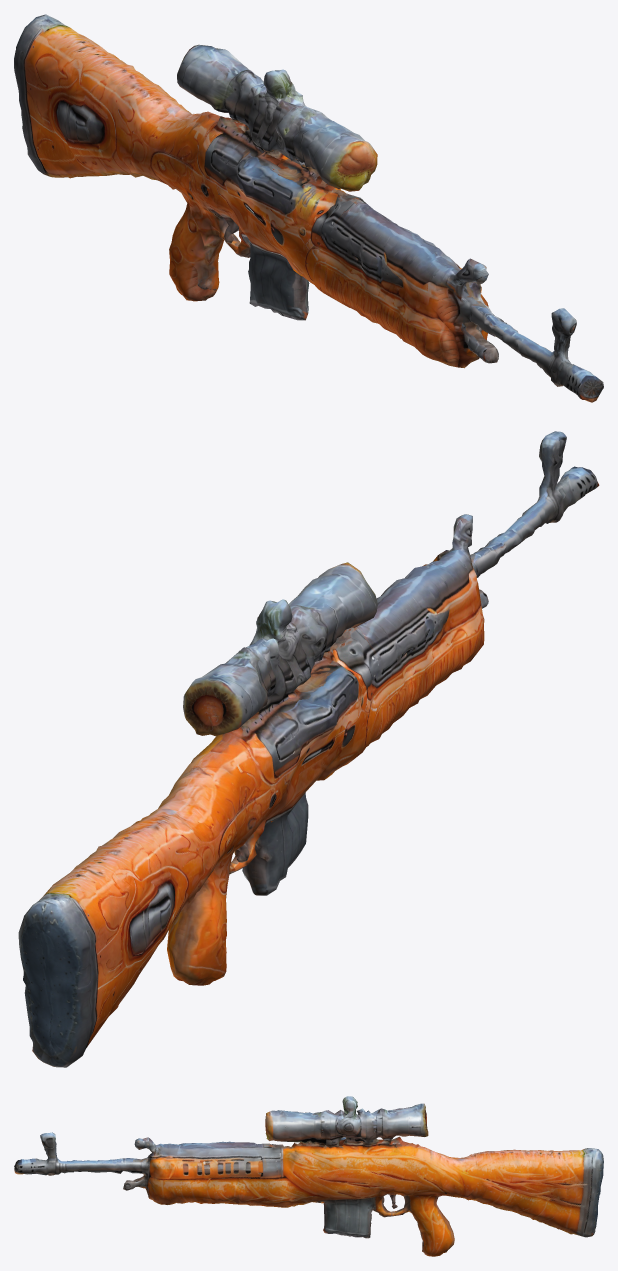
File: carrot_assault_rifle_0721175622_refine.fbx
3 views of the same model, one above another, from view 1: azimuth 30°, elevation 25°; view 2: azimuth 150°, elevation 25°; view 3: azimuth 270°, elevation 25° (orthographic). The views are drawn at different scales.
Visible parts, largest first — view 1: Mesh_0; view 2: Mesh_0; view 3: Mesh_0.
Part boxes in pixels (left/top/right/bottom): Mesh_0: left=14, top=14, right=603, bottom=402; Mesh_0: left=18, top=431, right=599, bottom=1067; Mesh_0: left=14, top=1096, right=603, bottom=1256.
Bounding box in the file's own units: 13.44 × 35.8 × 120.
Materials: 1 (1 with a texture image).
